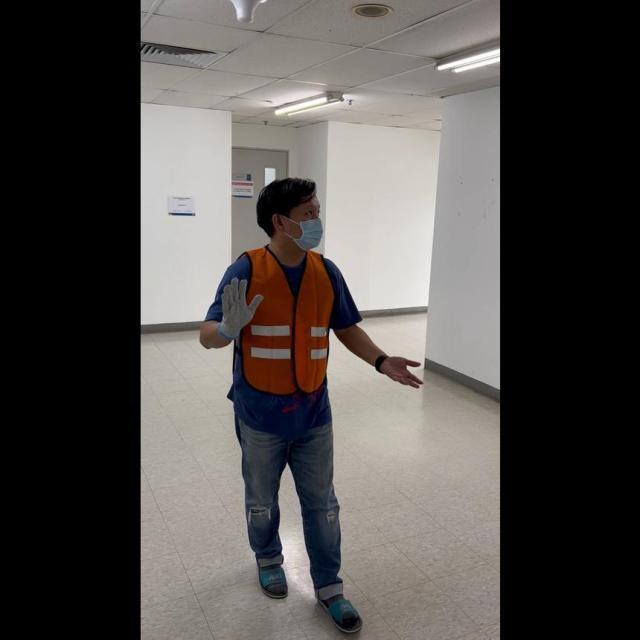bare_hand: (376, 352, 423, 389)
gloved_hand: (216, 275, 263, 339)
